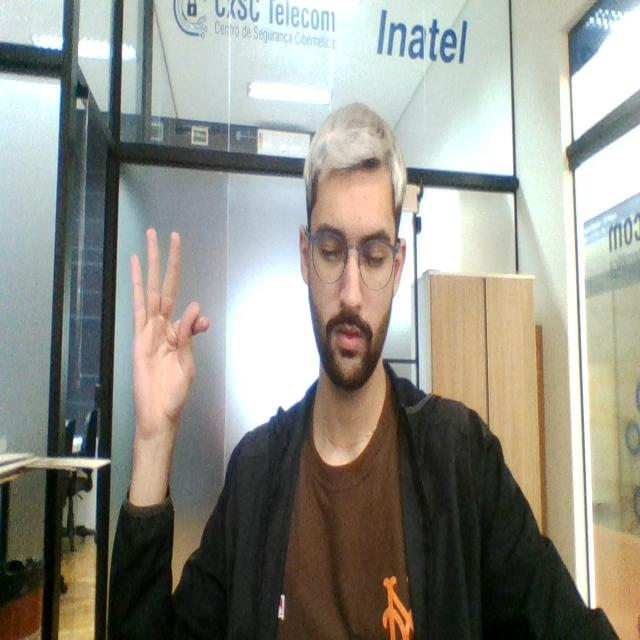T: (126, 221, 215, 439)
